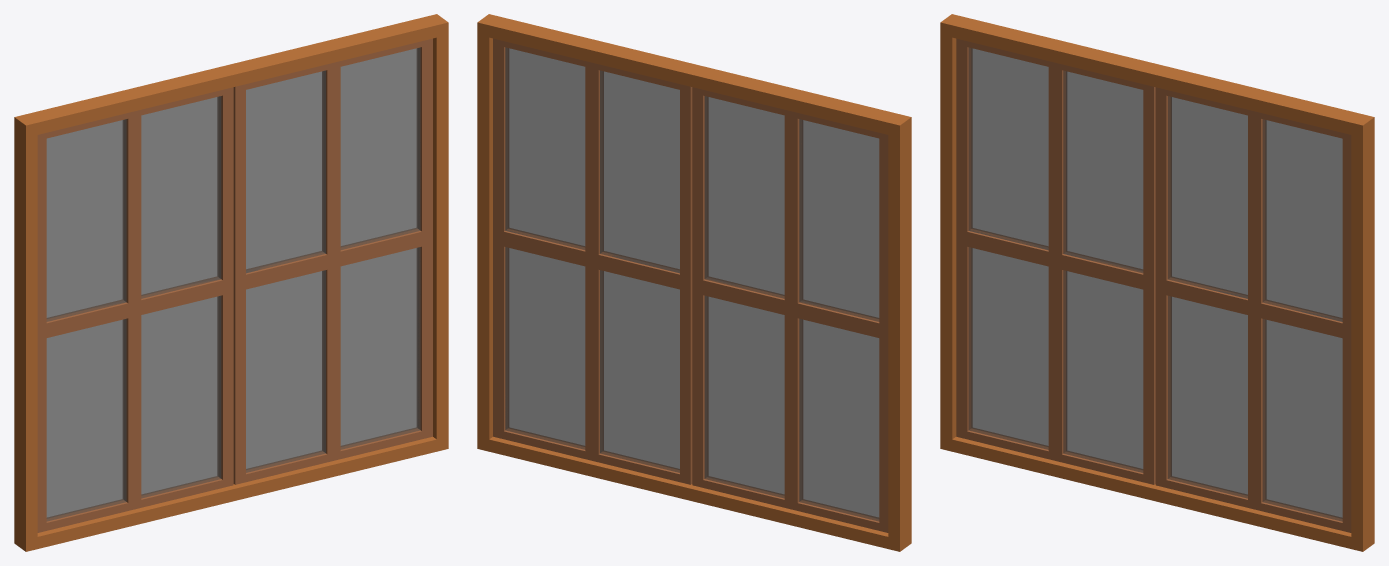
The model's file is Window.fbx.
3 views of the same model, side by side, from view 1: azimuth 30°, elevation 25°; view 2: azimuth 150°, elevation 25°; view 3: azimuth 330°, elevation 25° (orthographic).
Visible parts, largest first — view 1: Window2, Window, Frame; view 2: Window2, Window, Frame; view 3: Window, Window2, Frame.
Part boxes in pixels (<box>): Window2: <box>233,38,432,484</box>; Window: <box>37,87,233,532</box>; Frame: <box>14,14,448,551</box>; Window2: <box>493,38,692,484</box>; Window: <box>692,87,888,532</box>; Frame: <box>477,14,911,551</box>; Window: <box>956,38,1155,484</box>; Window2: <box>1155,87,1351,532</box>; Frame: <box>940,14,1374,551</box>.
Size of the model in its own units: 221 by 213 by 10.51.
